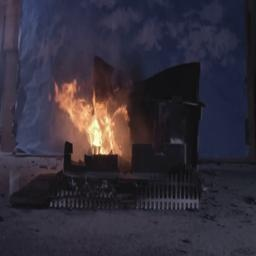fire: (49, 66, 133, 158)
